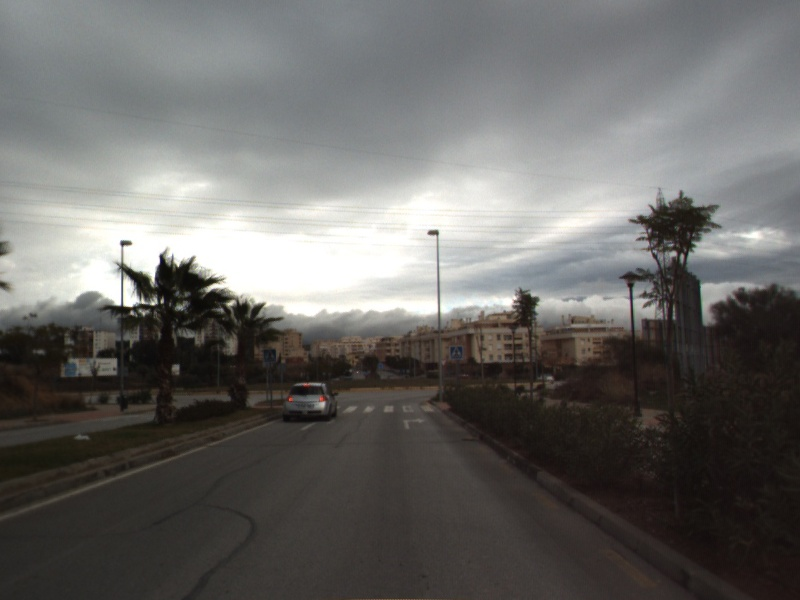RIGHT: (401, 415, 428, 431)
